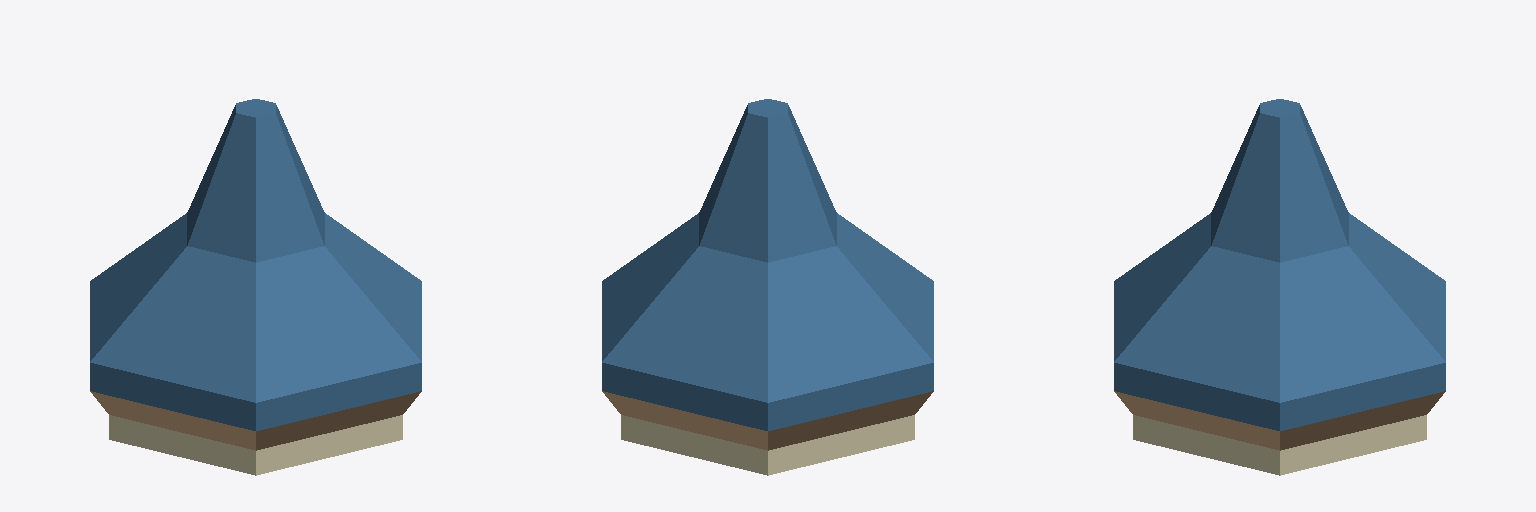
The model's file is towerHexagonRoof_exclusive.obj.
3 views of the same model, side by side, from view 1: azimuth 30°, elevation 25°; view 2: azimuth 150°, elevation 25°; view 3: azimuth 270°, elevation 25° (orthographic).
Visible parts, largest first — view 1: towerHexagonRoof_exclusive; view 2: towerHexagonRoof_exclusive; view 3: towerHexagonRoof_exclusive.
Boxes of the visible parts, x1=… form: towerHexagonRoof_exclusive: x1=90, y1=99, x2=421, y2=475; towerHexagonRoof_exclusive: x1=602, y1=99, x2=933, y2=475; towerHexagonRoof_exclusive: x1=1114, y1=99, x2=1445, y2=475.
Bounding box in the file's own units: 9.76 × 8.3 × 8.46.